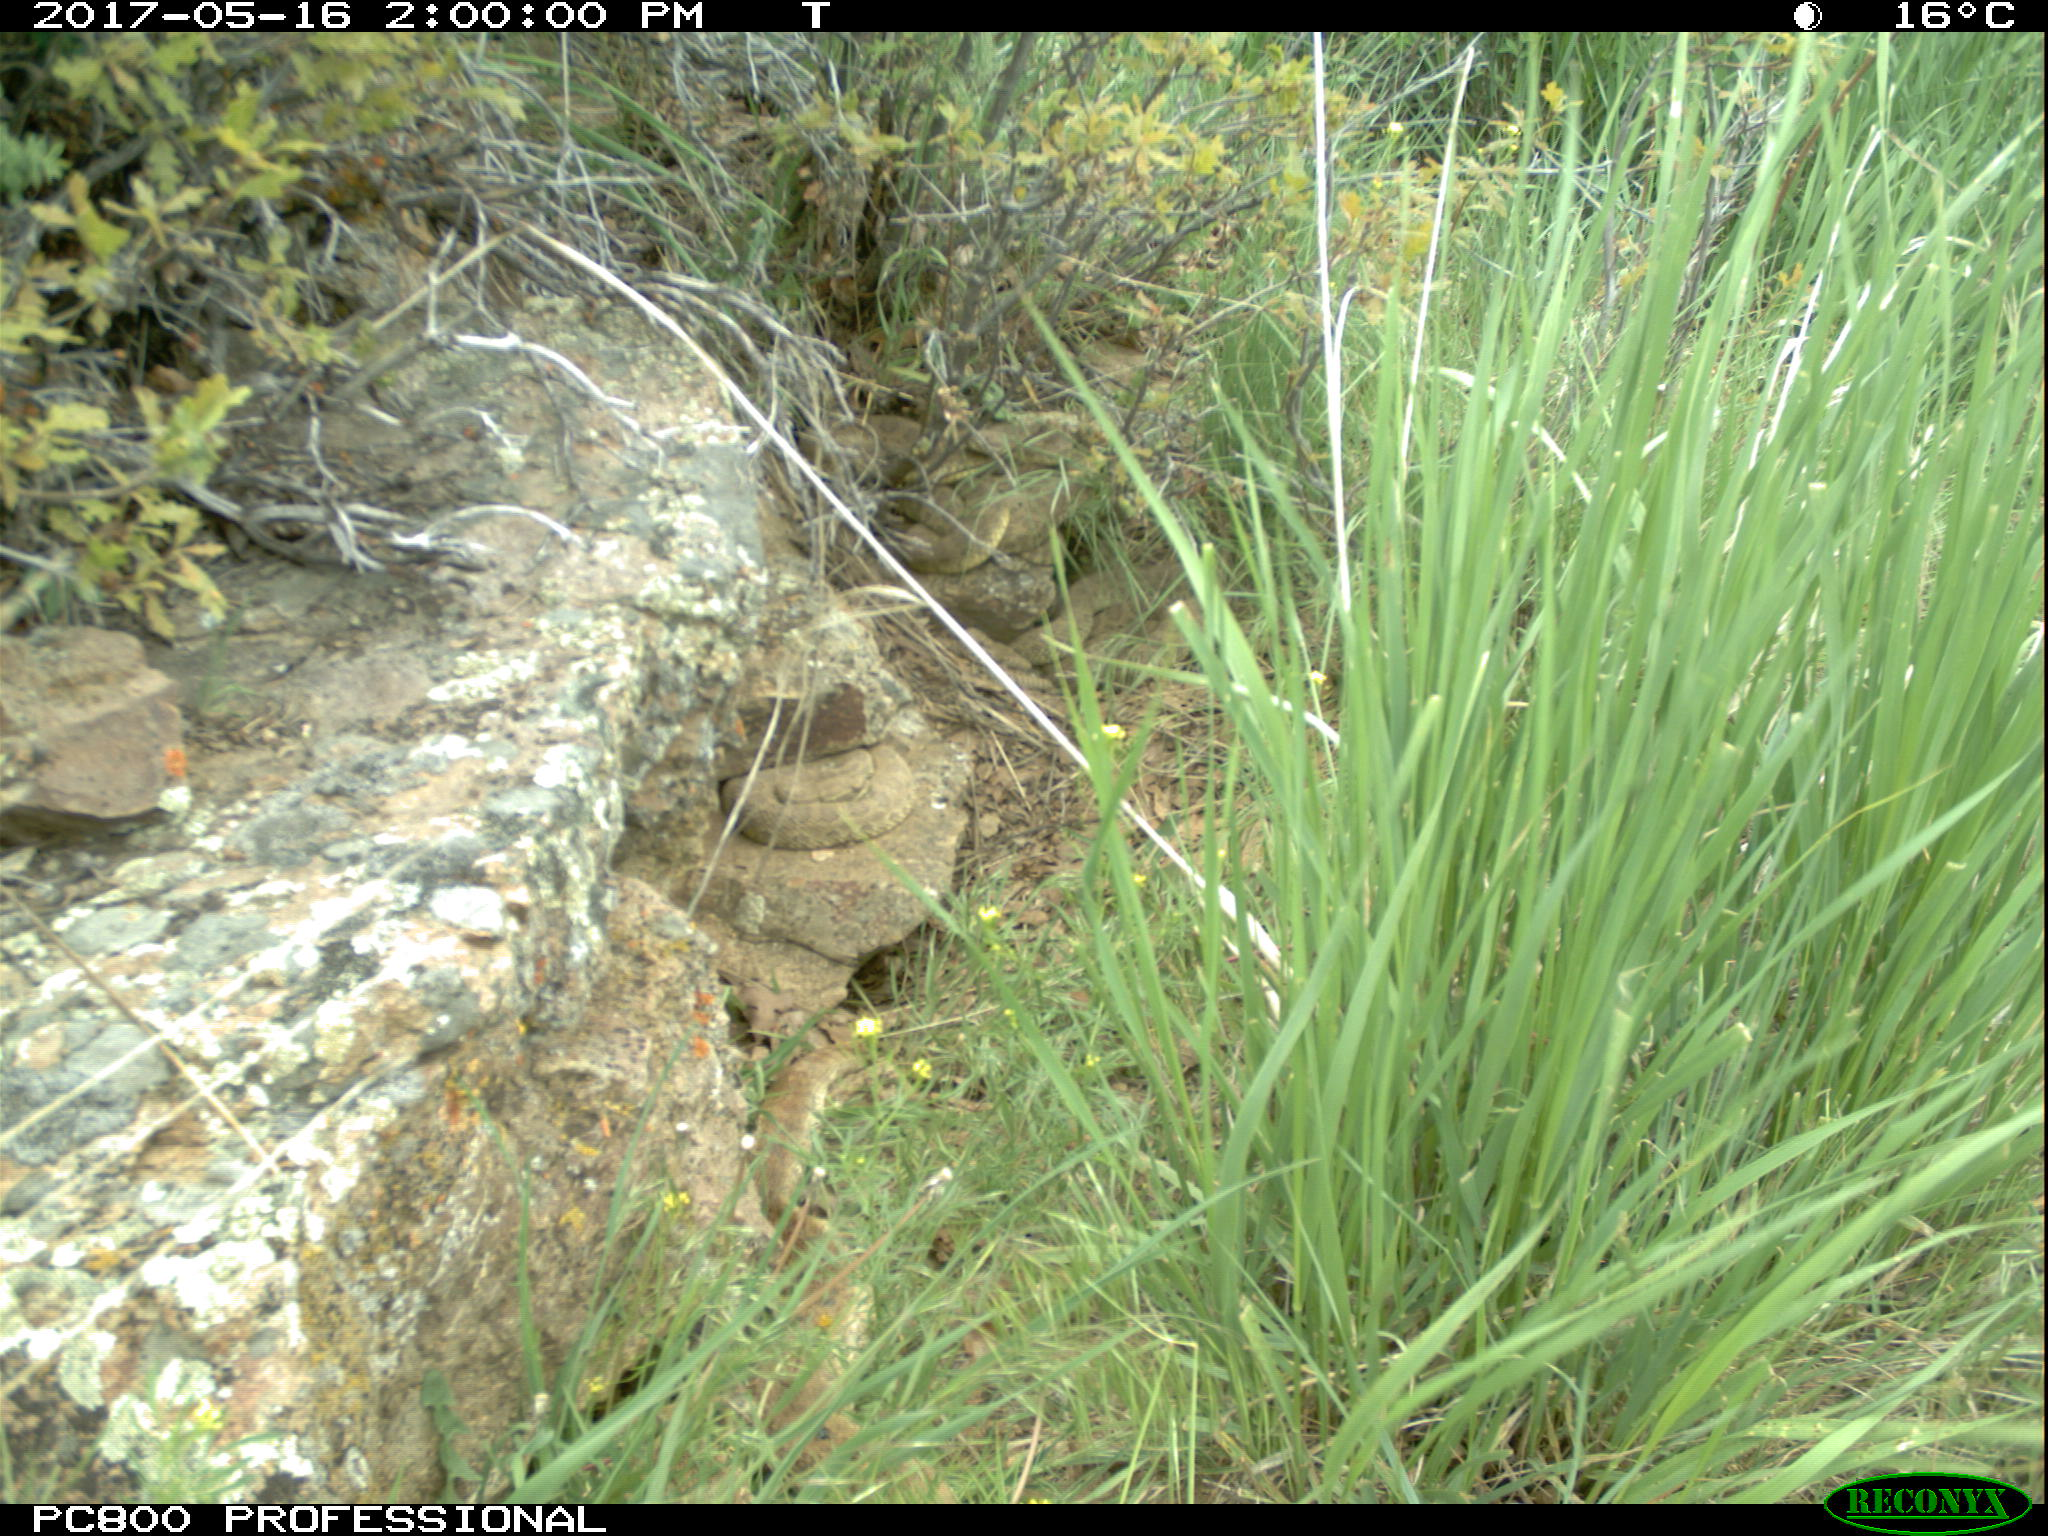snake: (751, 1046, 872, 1488), (714, 737, 913, 850), (1022, 561, 1203, 678), (892, 482, 1089, 579), (955, 408, 1097, 471)
